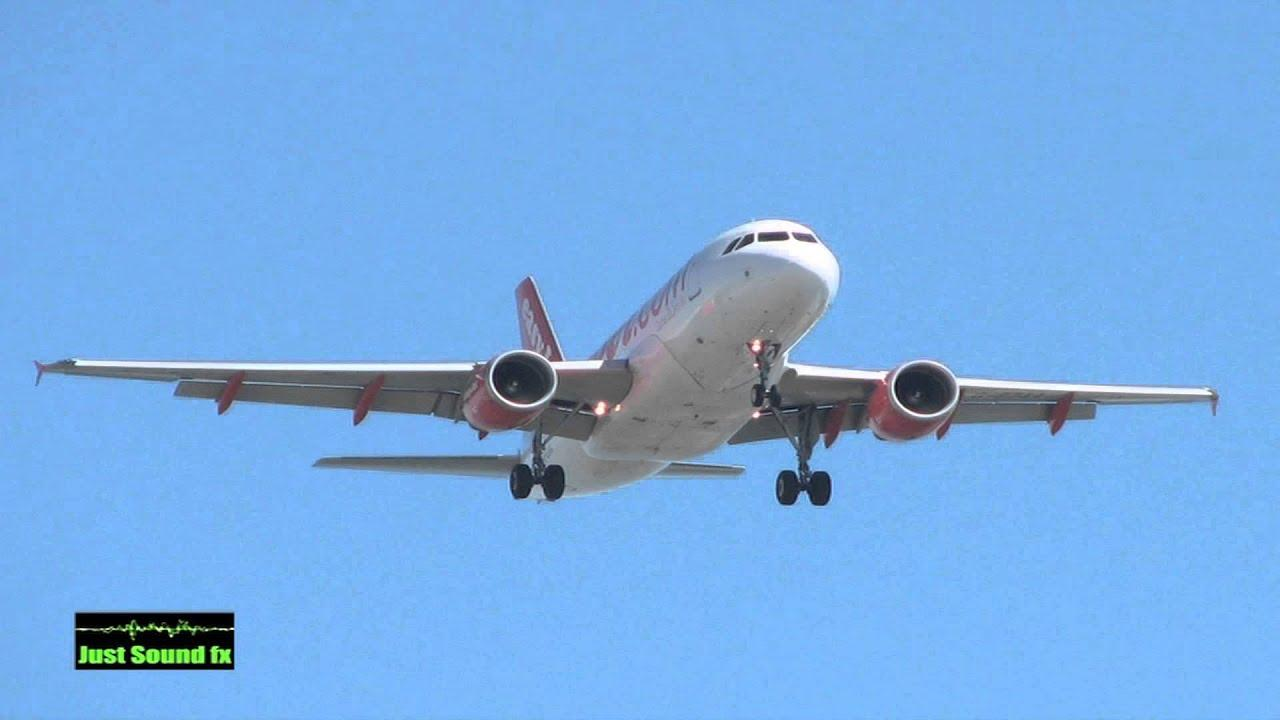Airplane: (25, 204, 1226, 520)
